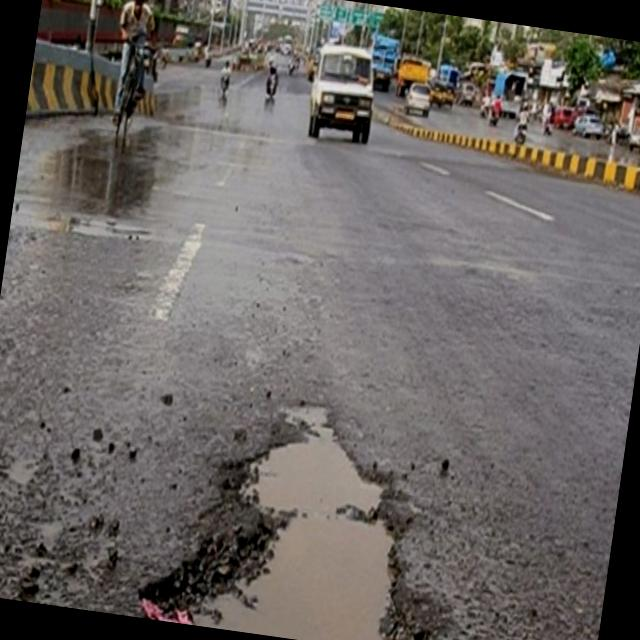bad-road: (130, 376, 473, 640)
